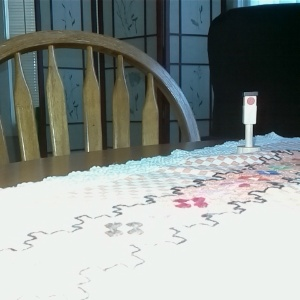traffic light red: (237, 88, 261, 156)
